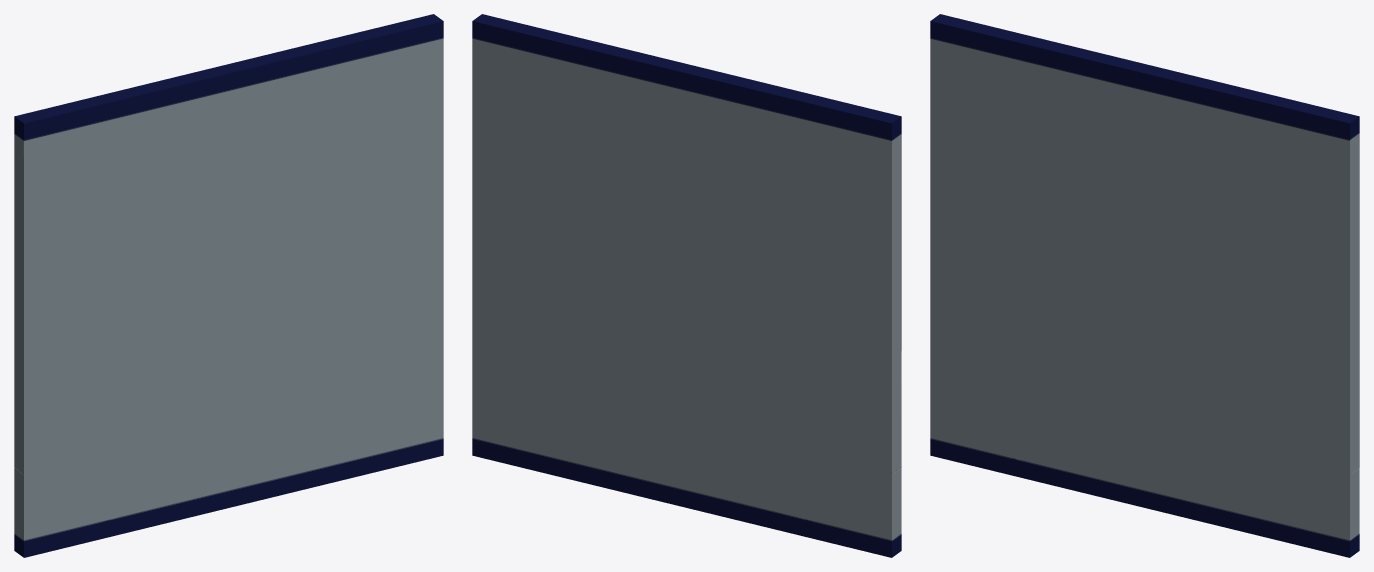
Rendered from Custom_Wall.fbx.
3 views of the same model, side by side, from view 1: azimuth 30°, elevation 25°; view 2: azimuth 150°, elevation 25°; view 3: azimuth 330°, elevation 25° (orthographic).
Visible parts, largest first — view 1: Courtyard_Wall_Bottom; view 2: Courtyard_Wall_Bottom; view 3: Courtyard_Wall_Bottom.
Boxes of the visible parts, x1=… form: Courtyard_Wall_Bottom: x1=14, y1=14, x2=443, y2=557; Courtyard_Wall_Bottom: x1=472, y1=14, x2=901, y2=557; Courtyard_Wall_Bottom: x1=930, y1=14, x2=1359, y2=557.
Bounding box in the file's own units: 1000 × 990 × 40.
